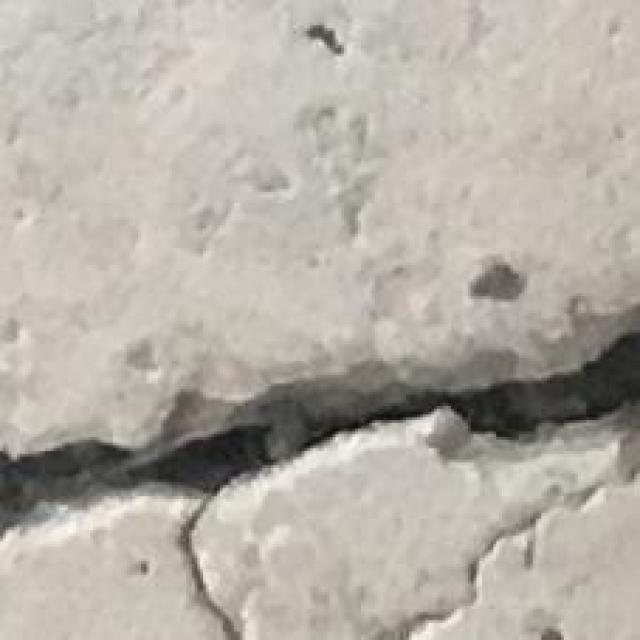Crack: (5, 327, 640, 640)
